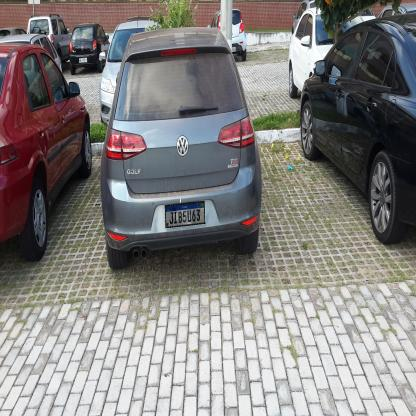PlacaM: (165, 201, 205, 228)
